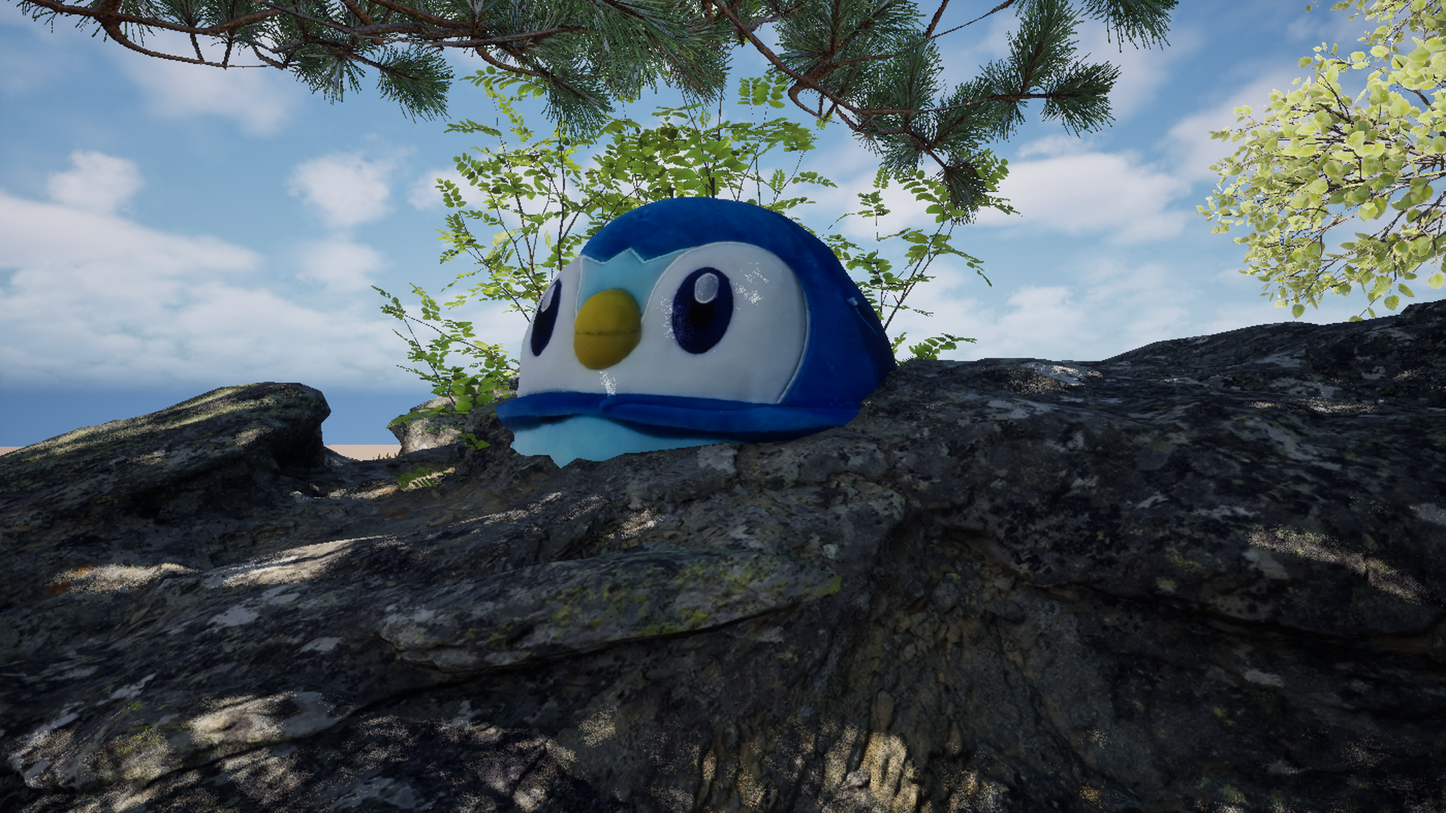Piplup: (300, 70, 1182, 743)
